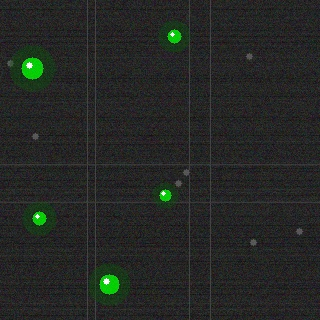green_normal: (19, 55, 45, 81), (97, 272, 121, 296), (165, 27, 183, 45), (30, 209, 48, 227), (157, 187, 173, 203)
